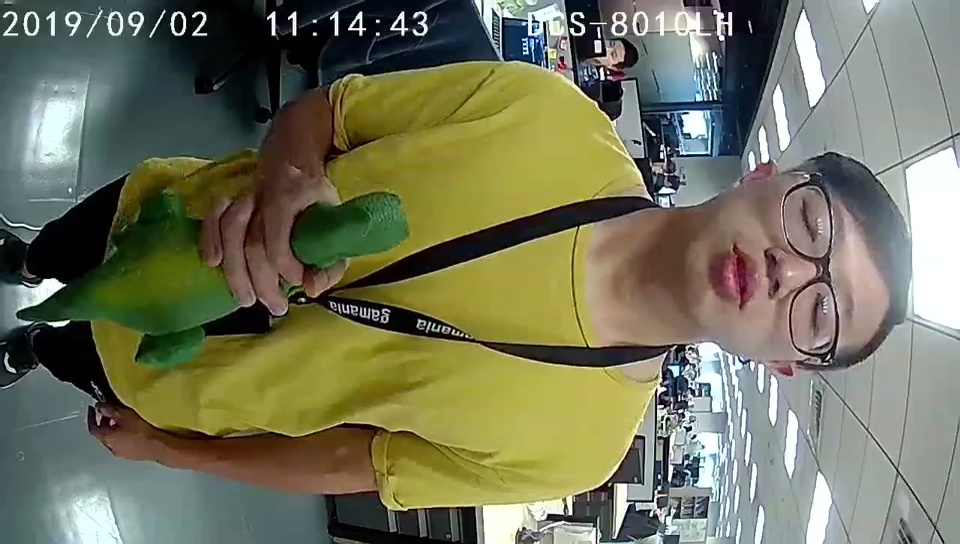rex: (134, 192, 406, 370)
